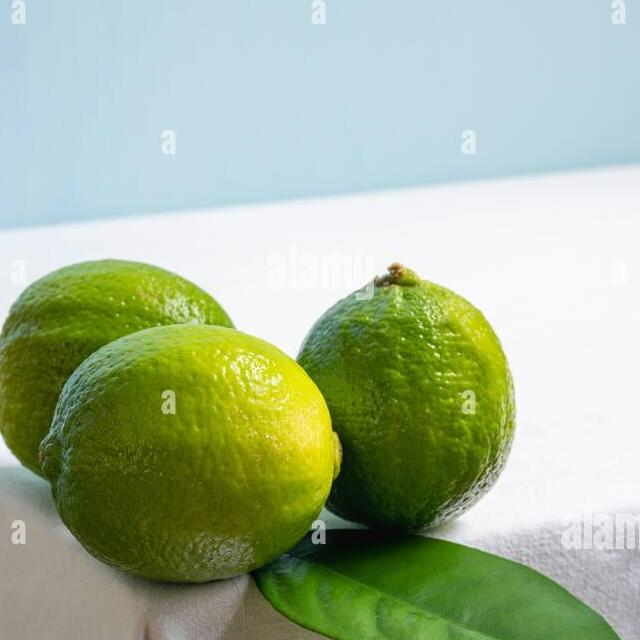lime: (22, 302, 362, 602), (276, 244, 536, 559), (0, 225, 279, 484)
